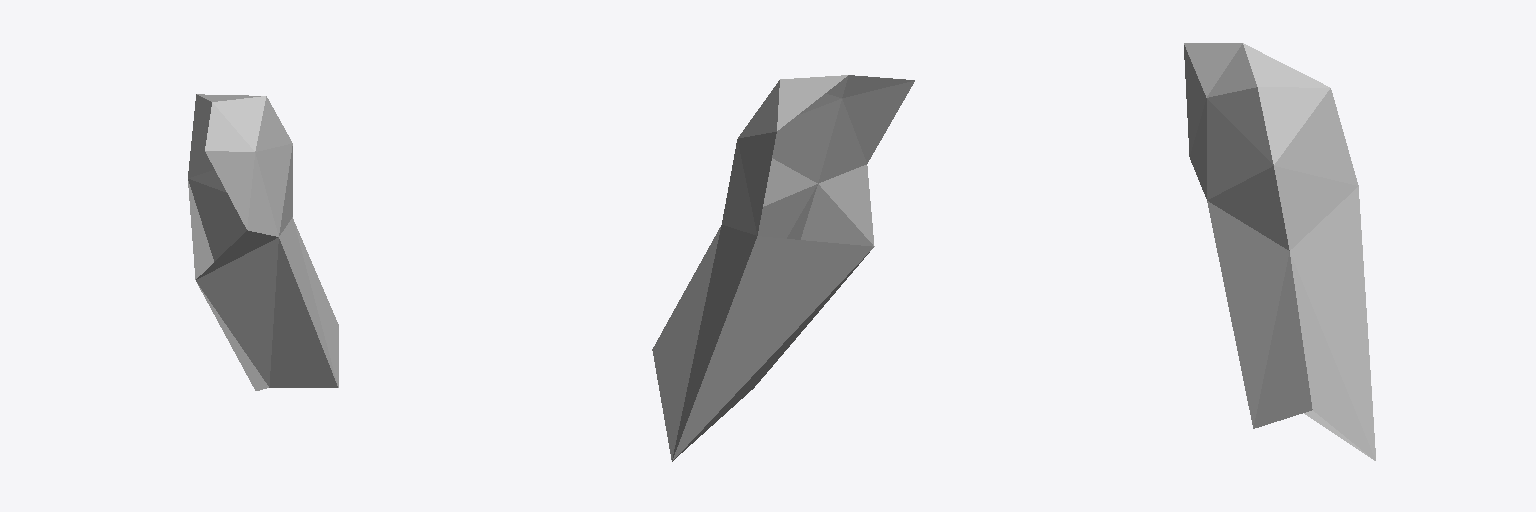
The model's file is 02-left_arm.obj.
3 views of the same model, side by side, from view 1: azimuth 30°, elevation 25°; view 2: azimuth 150°, elevation 25°; view 3: azimuth 270°, elevation 25° (orthographic).
Parts seen in each view (by area): view 1: Man.003_Body.003; view 2: Man.003_Body.003; view 3: Man.003_Body.003.
Boxes of the visible parts, box(x1,y1,x2,y2) form: Man.003_Body.003: box(188, 94, 338, 390); Man.003_Body.003: box(652, 75, 914, 461); Man.003_Body.003: box(1184, 43, 1375, 460).
Size of the model in its own units: 0.704 by 1.24 by 0.5914.